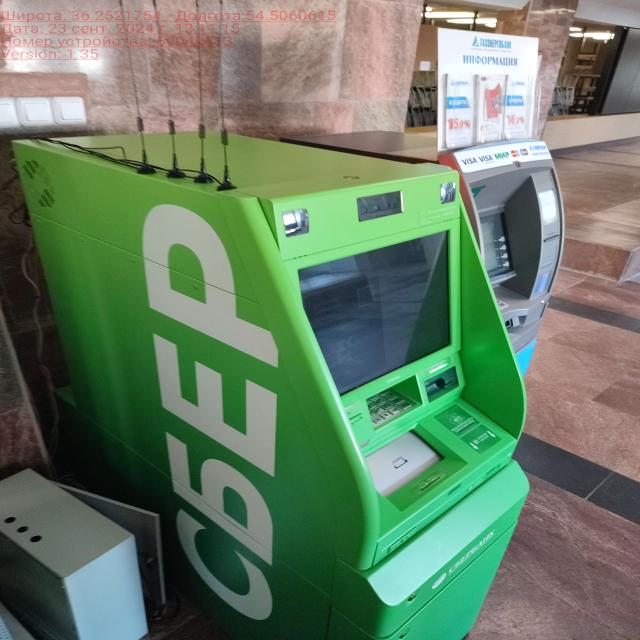bank: (15, 134, 530, 640)
